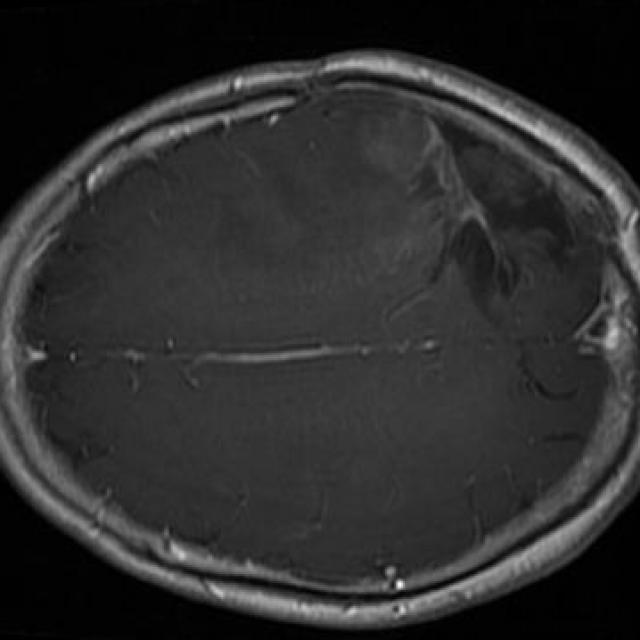glioma: (362, 114, 581, 310)
